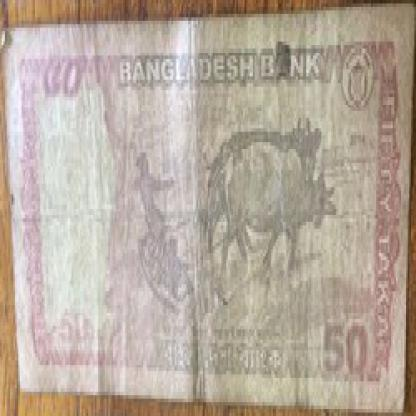Fifty taka: (311, 312, 376, 385), (40, 48, 85, 111)
